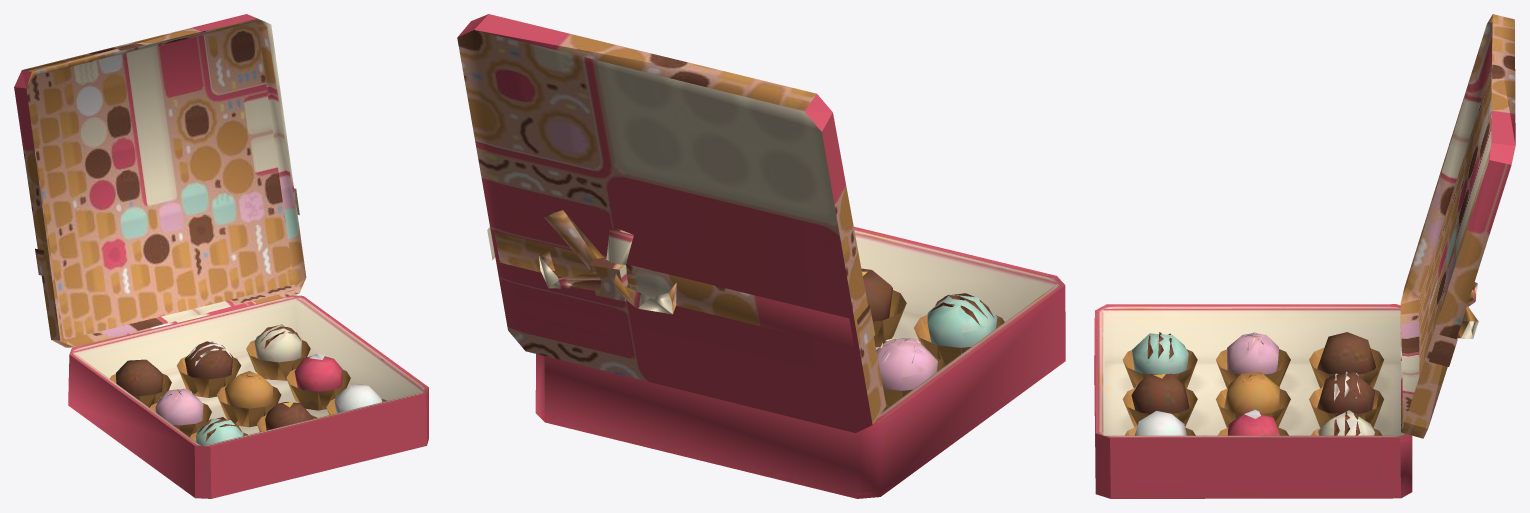
Rendered from food-chocolate-truffle-box.glb.
3 renders of one model, left to right at view 1: azimuth 30°, elevation 25°; view 2: azimuth 150°, elevation 25°; view 3: azimuth 270°, elevation 25°, orthographic. The views are drawn at different scales.
Visible parts, largest first — view 1: chocolate-truffle-box_body; view 2: chocolate-truffle-box_body; view 3: chocolate-truffle-box_body.
Boxes of the visible parts, left/top/right/bottom form: chocolate-truffle-box_body: left=14, top=14, right=428, bottom=498; chocolate-truffle-box_body: left=457, top=14, right=1065, bottom=498; chocolate-truffle-box_body: left=1094, top=14, right=1515, bottom=498.
Size of the model in its own units: 3.54 by 4.07 by 4.4.
1 material, 1 textured.
